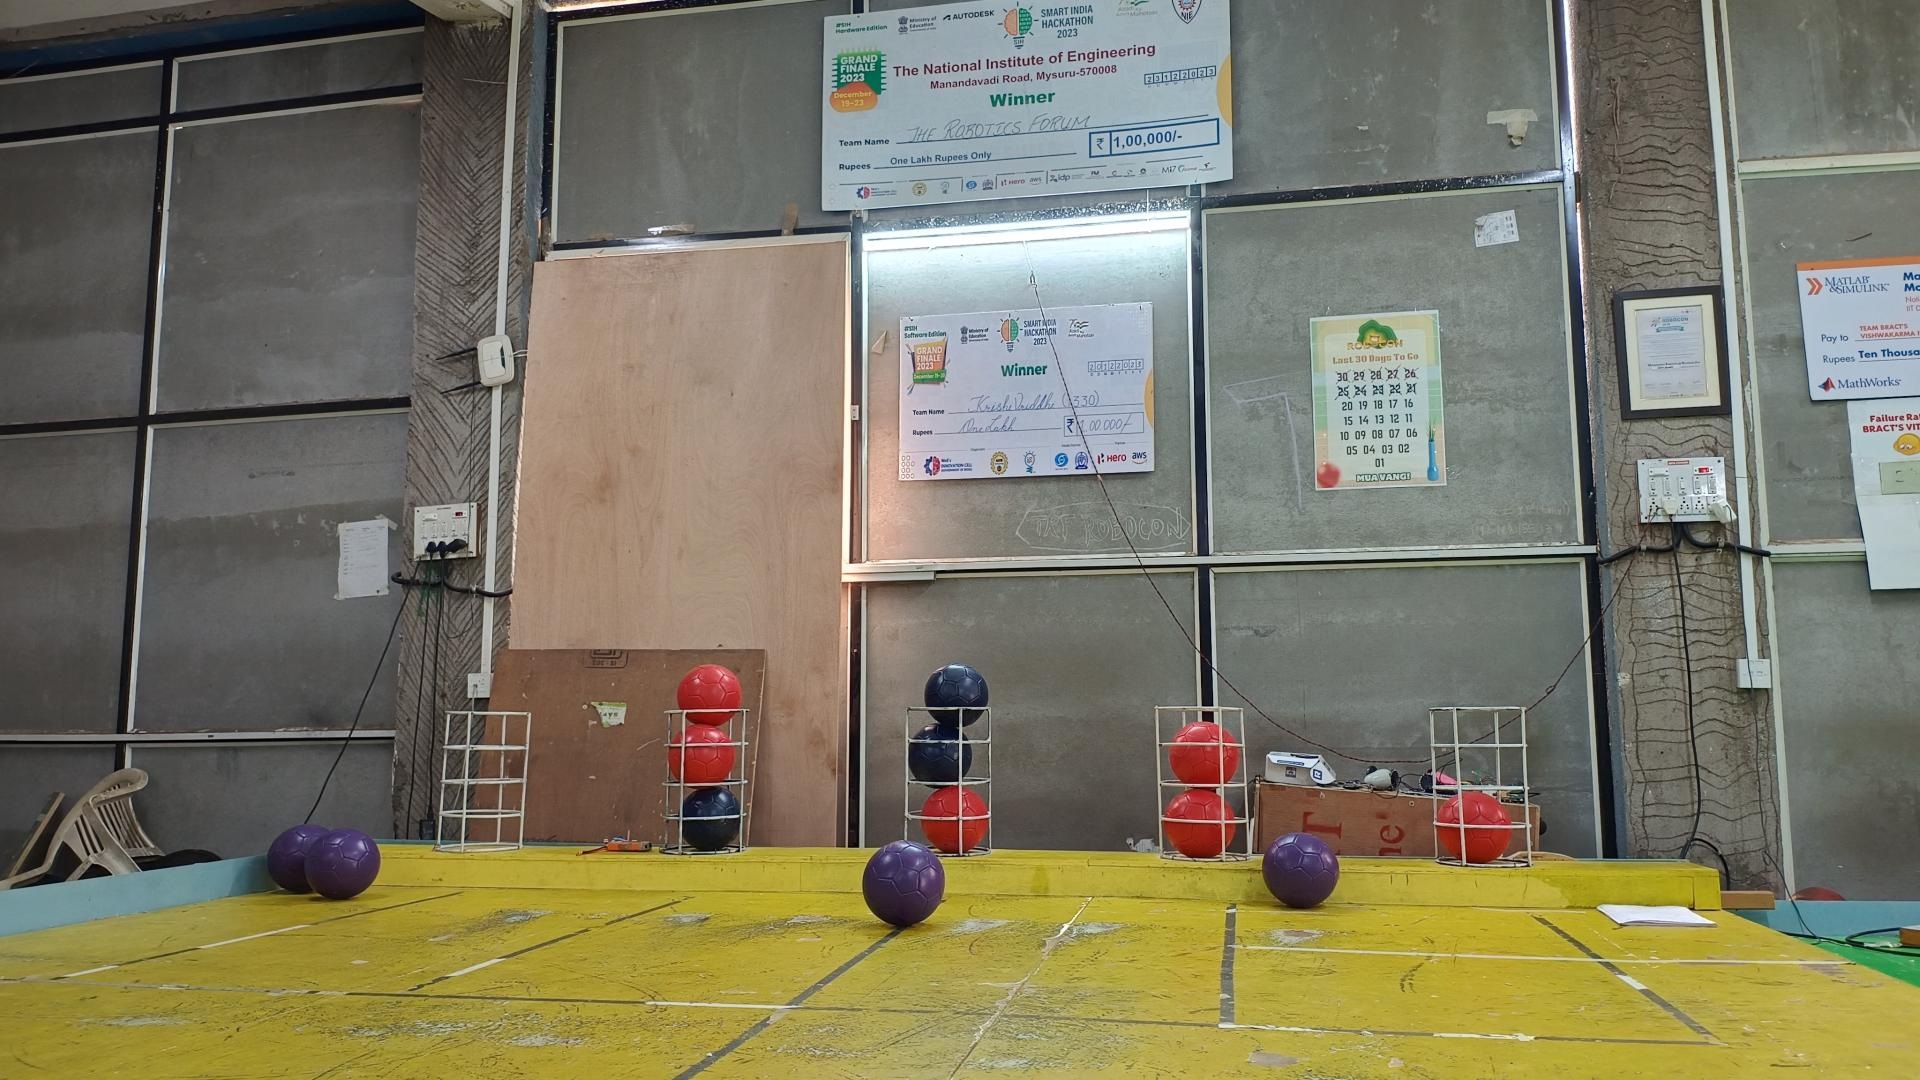dhoka: (926, 663, 990, 728), (907, 724, 972, 783), (683, 787, 738, 852)
laale: (1436, 791, 1511, 862), (1163, 787, 1237, 858), (923, 783, 990, 852), (1170, 720, 1241, 783), (667, 724, 735, 783), (679, 663, 742, 724)
